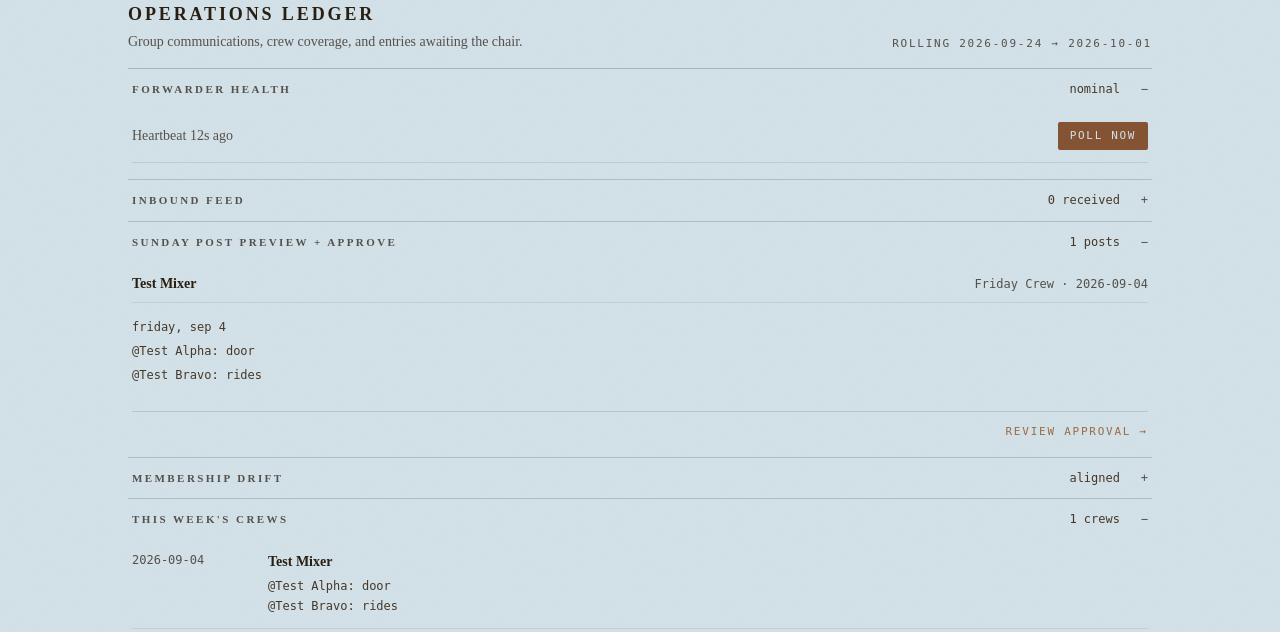
Ops — a refused approval › tells the chair to re-preview when the preview has expired
Click the button "Review approval →".
click(1077, 432)  # box [1006,424,1148,440]
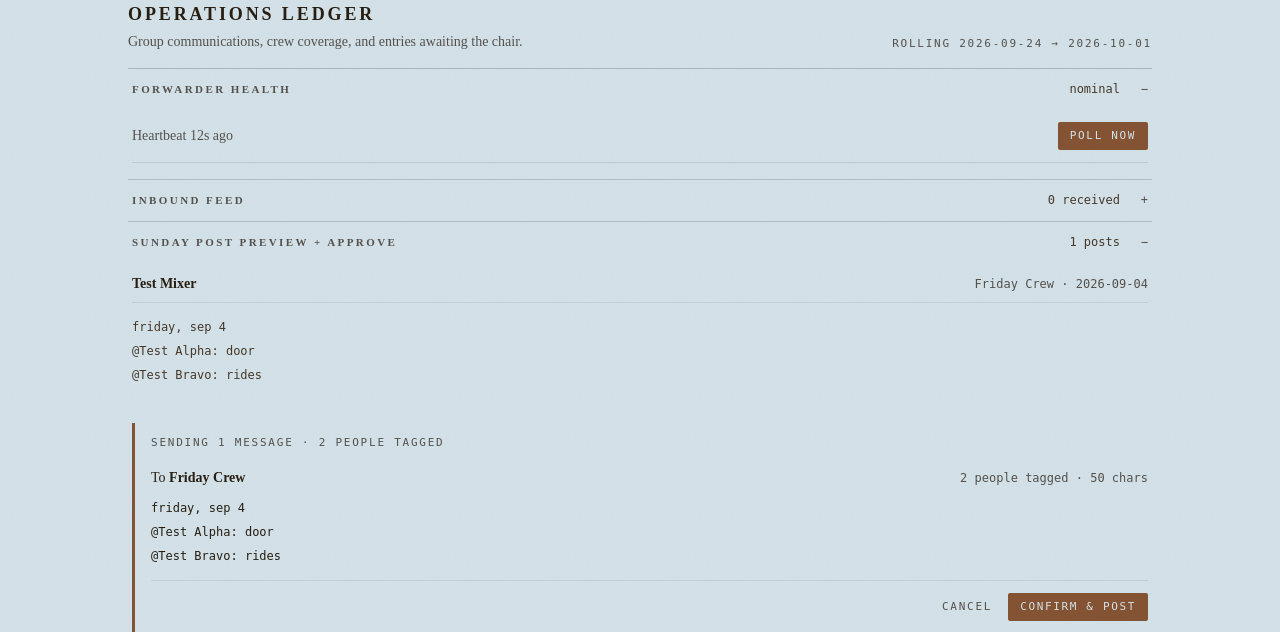
Click the button "Confirm & post".
click(1078, 607)  # box [1008,592,1148,621]
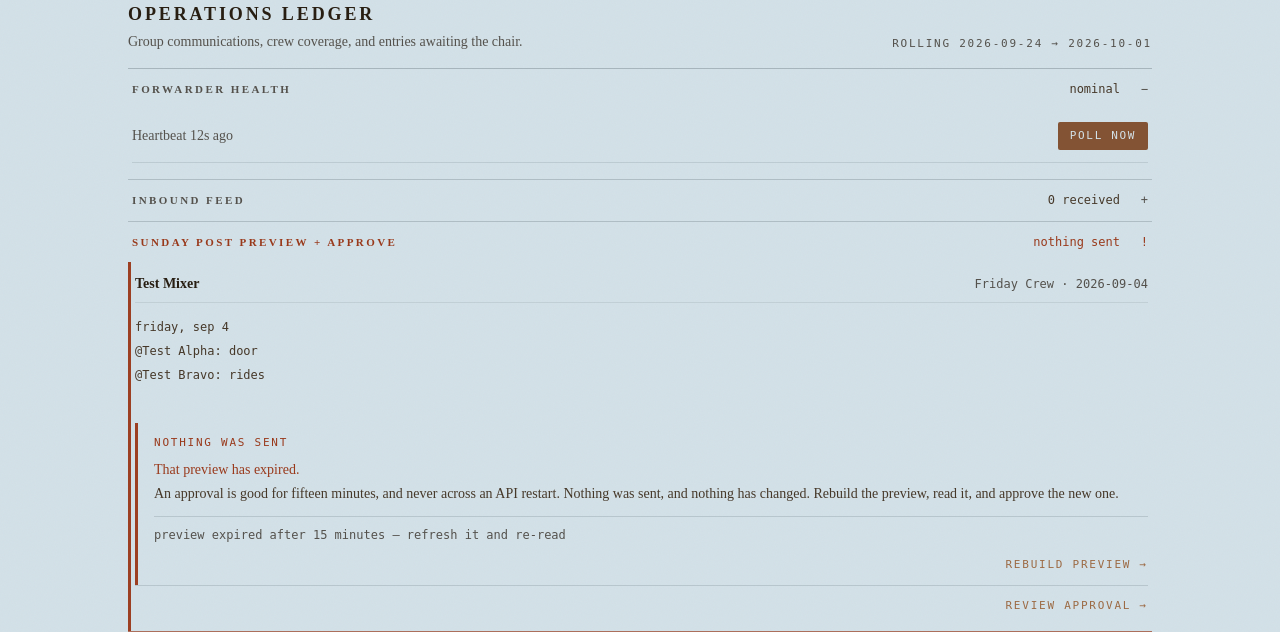
Result: the message is shown at [135,423,1148,585]
Result: the message shows "That preview has expired." at [154,462,299,476]
Result: the message shows "Rebuild the preview" at [154,486,1119,500]
Click the button "Rebuild preview →".
click(1077, 565)  # box [1006,556,1148,573]
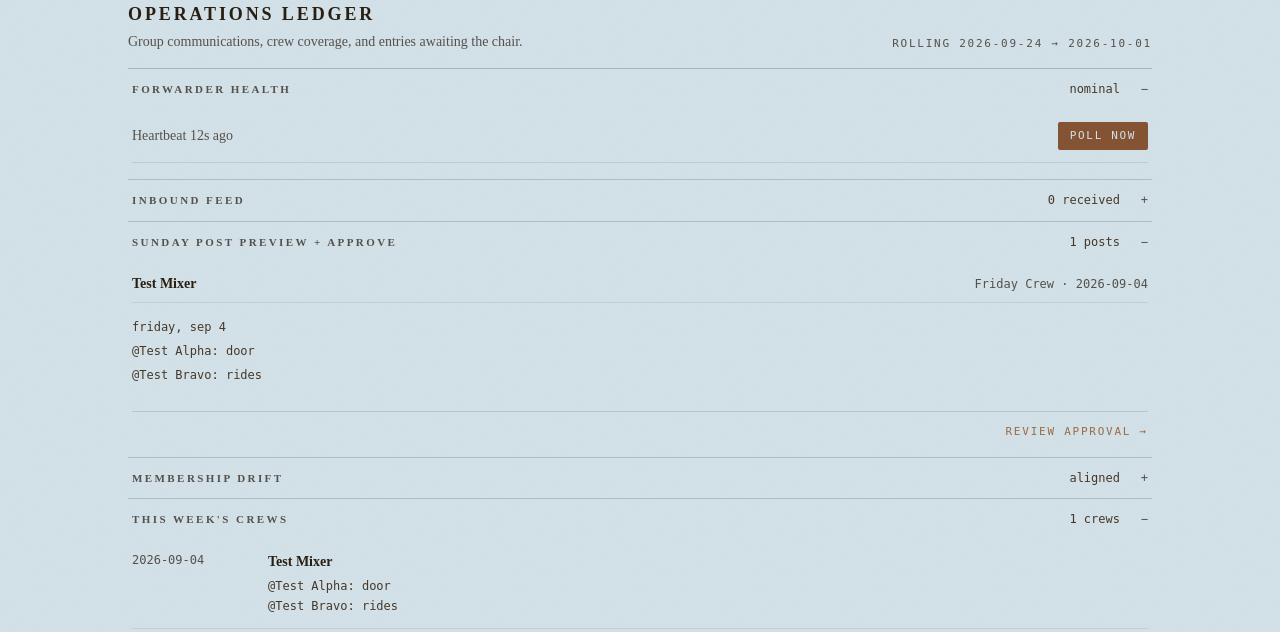
Result: the message is gone
